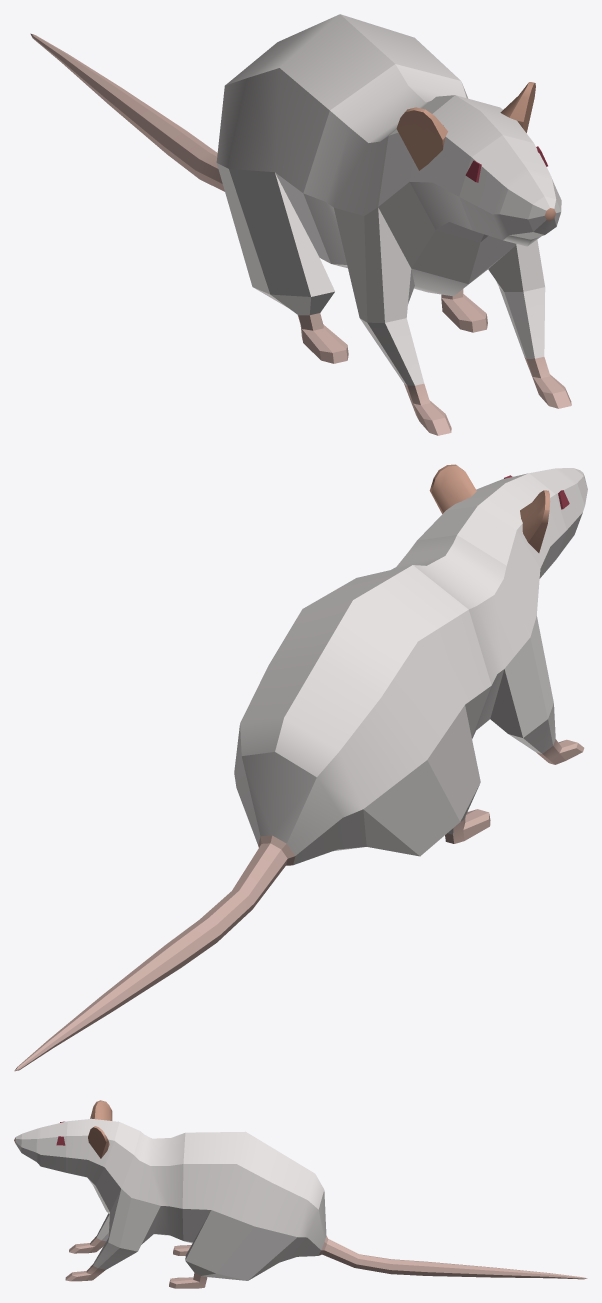
File: rat.glb
3 views of the same model, one above another, from view 1: azimuth 30°, elevation 25°; view 2: azimuth 150°, elevation 25°; view 3: azimuth 270°, elevation 25° (orthographic). The views are drawn at different scales.
Parts seen in each view (by area): view 1: Geo_Rat; view 2: Geo_Rat; view 3: Geo_Rat.
Part boxes in pixels (x1,y1,x2,y2): Geo_Rat: (30, 14, 571, 435); Geo_Rat: (14, 464, 587, 1071); Geo_Rat: (14, 1100, 587, 1288).
Size of the model in its own units: 0.0351 by 0.0525 by 0.1767.
Materials: 1 (1 with a texture image).
